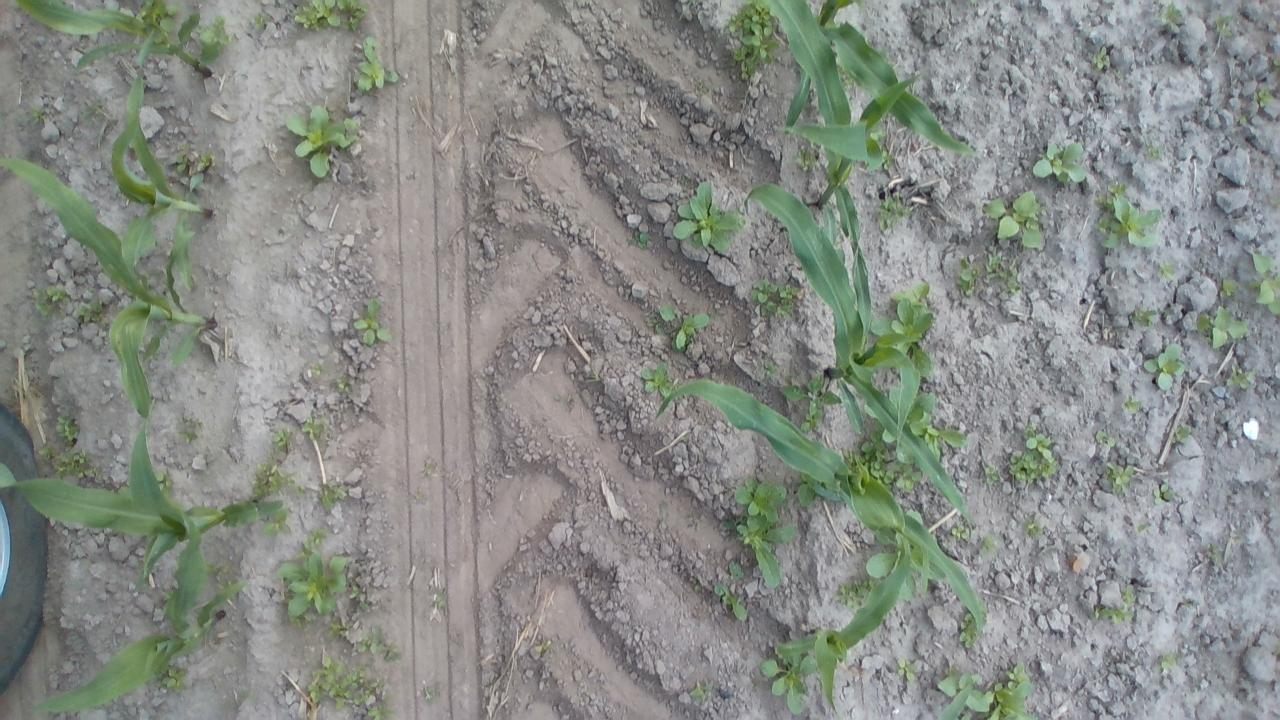Maize: (656, 380, 985, 640), (744, 182, 971, 540), (0, 158, 217, 420), (764, 0, 920, 356), (0, 408, 283, 592), (25, 502, 248, 714), (784, 0, 985, 161), (110, 31, 212, 292), (775, 534, 911, 718), (14, 0, 212, 76)
Weeds: (724, 477, 796, 590), (864, 385, 968, 462), (866, 510, 948, 602), (843, 420, 924, 497), (868, 282, 932, 378), (284, 105, 360, 178), (674, 182, 746, 252), (274, 552, 348, 618), (308, 658, 390, 710), (727, 0, 779, 80), (982, 190, 1048, 251), (759, 646, 817, 714), (779, 374, 842, 432), (1096, 193, 1161, 249), (980, 664, 1038, 720), (247, 451, 307, 502), (1009, 425, 1058, 484), (654, 304, 710, 352), (356, 36, 398, 93), (38, 444, 102, 481), (937, 668, 990, 712), (1032, 142, 1087, 184), (294, 0, 368, 31), (1196, 306, 1248, 348), (1142, 342, 1186, 391), (1248, 252, 1280, 316), (750, 278, 800, 316), (834, 574, 882, 612), (354, 300, 391, 346), (984, 253, 1021, 296), (358, 625, 400, 662), (133, 0, 179, 33), (641, 362, 680, 400), (194, 15, 234, 52), (959, 604, 988, 650), (713, 584, 748, 622), (878, 194, 912, 232), (796, 470, 828, 508), (34, 286, 68, 320), (1104, 460, 1134, 496), (295, 528, 327, 560), (74, 299, 110, 327), (956, 256, 978, 299), (152, 665, 187, 692), (54, 414, 80, 450), (1090, 604, 1134, 625), (318, 484, 350, 510), (261, 509, 291, 534), (1226, 364, 1256, 389), (1155, 1, 1181, 28), (348, 582, 371, 611), (792, 148, 818, 172), (154, 468, 174, 499), (301, 416, 325, 441), (1129, 306, 1156, 328), (177, 420, 202, 442), (834, 61, 856, 86), (1154, 650, 1179, 671), (328, 615, 351, 637), (1214, 14, 1234, 38), (896, 658, 916, 682), (689, 682, 715, 700), (366, 704, 395, 720), (1092, 46, 1111, 70), (174, 144, 189, 174), (978, 534, 998, 556), (628, 229, 651, 248), (272, 429, 292, 450), (1220, 278, 1240, 298), (1121, 395, 1142, 414), (1257, 85, 1275, 107), (878, 142, 892, 170), (1152, 484, 1172, 503), (1094, 431, 1116, 448), (1171, 426, 1191, 444), (82, 102, 103, 119), (197, 150, 213, 172), (250, 12, 268, 31), (869, 120, 886, 140), (951, 521, 968, 541), (729, 559, 744, 581), (1022, 520, 1044, 535), (1157, 262, 1176, 278), (984, 466, 1000, 485), (205, 562, 228, 575), (1122, 584, 1136, 604), (336, 376, 352, 393), (288, 616, 306, 630), (1148, 142, 1162, 158), (30, 107, 43, 124), (762, 362, 777, 376), (1210, 545, 1221, 564), (216, 580, 232, 592), (1108, 183, 1126, 193), (953, 711, 972, 720), (434, 592, 444, 608), (424, 459, 434, 475), (118, 486, 130, 499), (162, 589, 175, 601), (312, 363, 325, 375), (424, 690, 436, 702), (589, 372, 601, 383), (1235, 112, 1248, 122), (520, 192, 532, 202), (691, 578, 700, 591), (1137, 524, 1147, 534), (697, 82, 707, 92), (1270, 198, 1280, 206), (534, 644, 544, 652), (1273, 56, 1280, 66), (1114, 70, 1122, 78), (970, 0, 977, 4)
